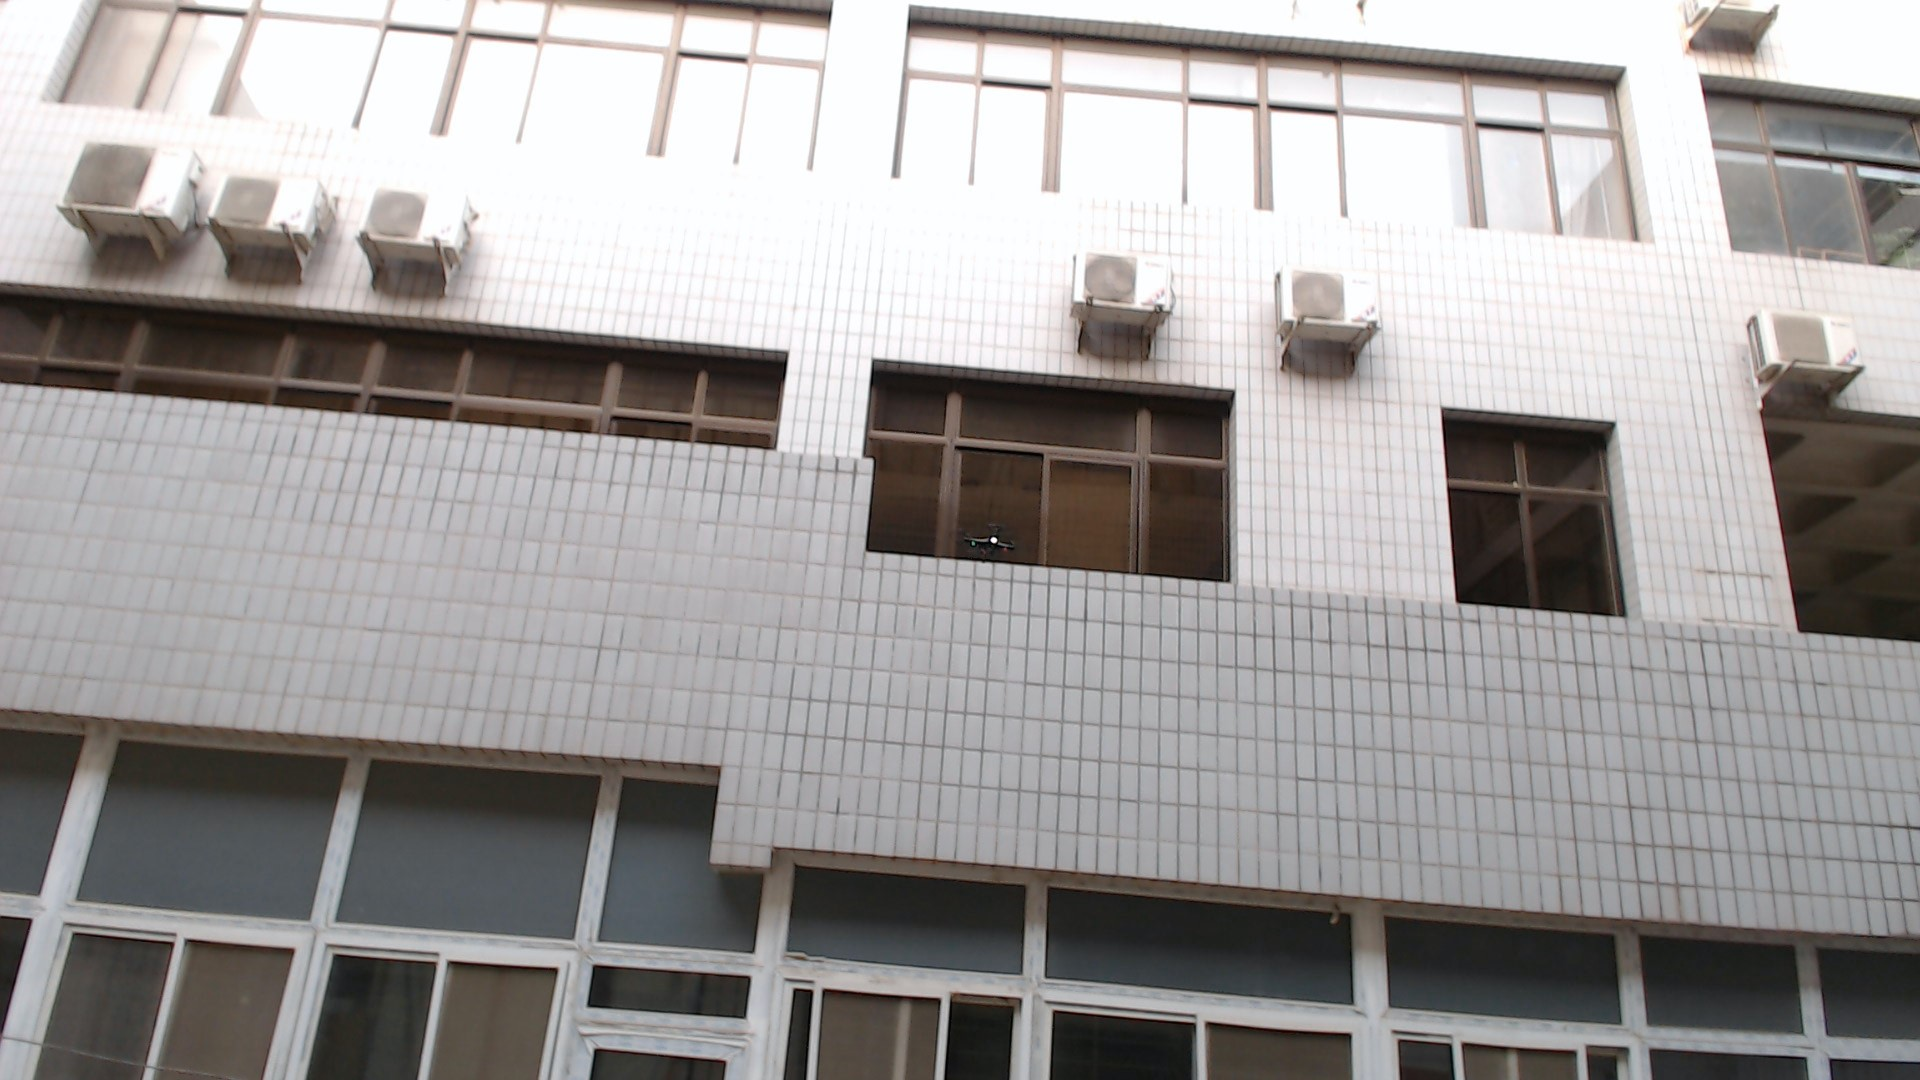drone: (960, 521, 1018, 562)
